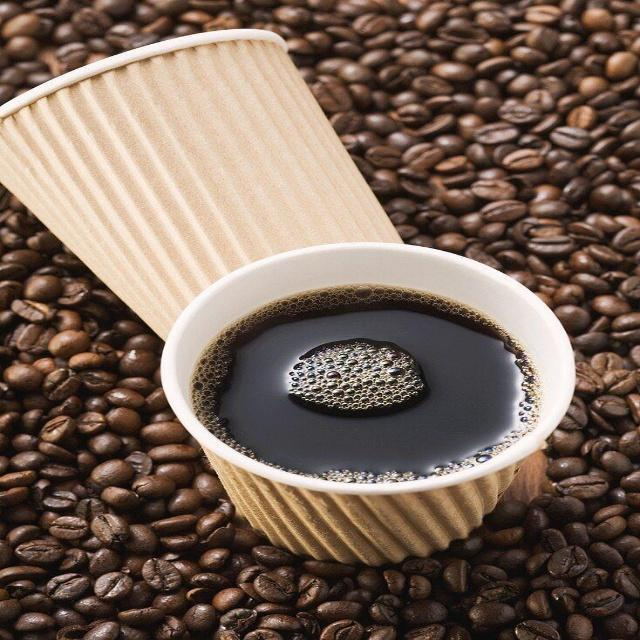paper_cup: (137, 238, 579, 558), (3, 24, 440, 344)
